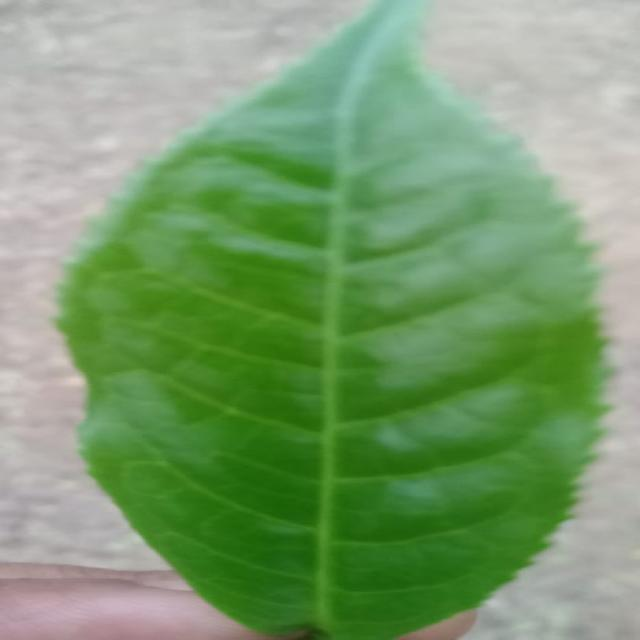Category B(2-4 days): (42, 2, 608, 640)
